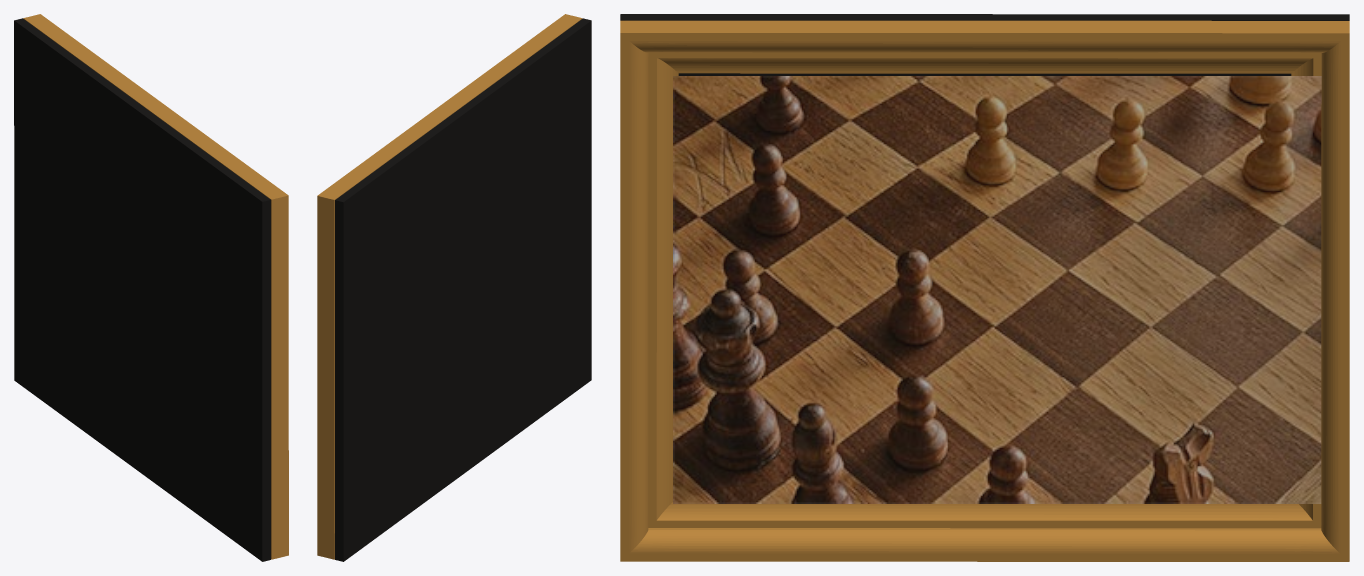
3 views of the same model, side by side, from view 1: azimuth 30°, elevation 25°; view 2: azimuth 150°, elevation 25°; view 3: azimuth 270°, elevation 25° (orthographic). The views are drawn at different scales.
Parts seen in each view (by area): view 1: frame.001_3.001, back panel.001_2.001; view 2: frame.001_3.001, back panel.001_2.001; view 3: frame.001_3.001, back panel.001_2.001.
Part boxes in pixels (left/top/right/bottom): frame.001_3.001: left=14, top=18, right=270, bottom=561; back panel.001_2.001: left=23, top=14, right=288, bottom=559; frame.001_3.001: left=335, top=18, right=591, bottom=561; back panel.001_2.001: left=317, top=14, right=582, bottom=559; frame.001_3.001: left=620, top=14, right=1349, bottom=503; back panel.001_2.001: left=620, top=20, right=1349, bottom=561.
Bounding box in the file's own units: 1.05 × 13.7 × 17.12.
Materials: 3 (1 with a texture image).
